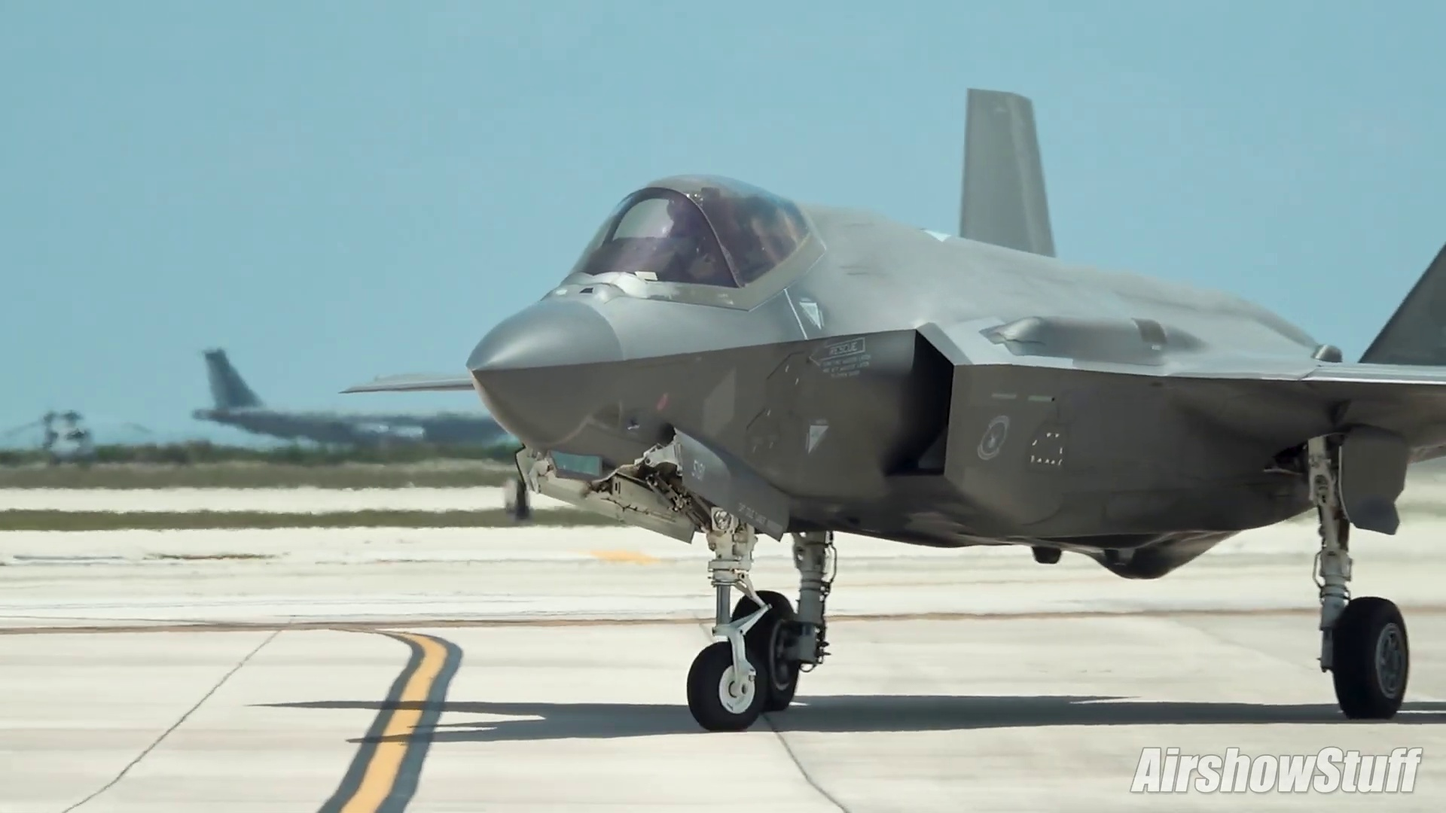F35: (353, 87, 1440, 728)
